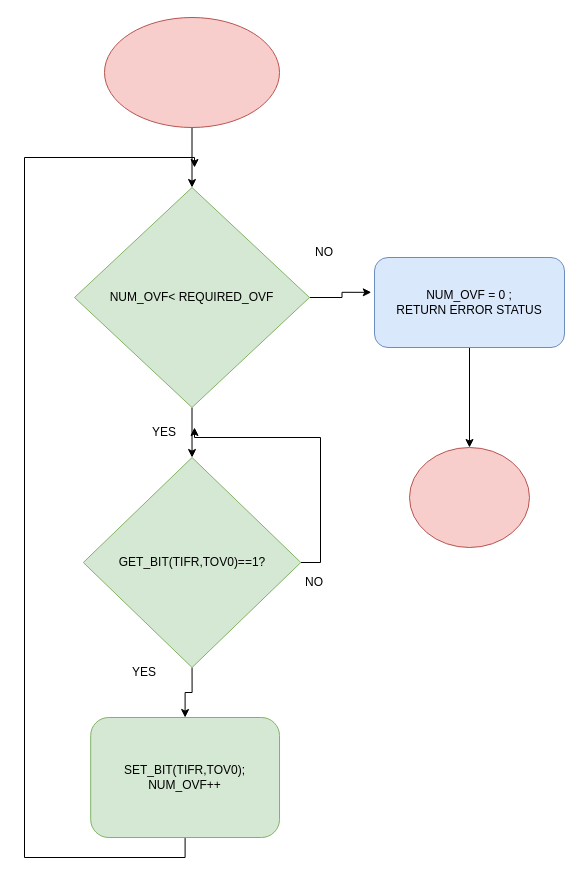
Some shapes in this 582 by 883 pixel diagram are drawn without their labels. The shapes that lost their labels are listed below. From the top down, each one's centre as x and y in pixels, then its label:
(x=192, y=72): START
(x=469, y=497): END
